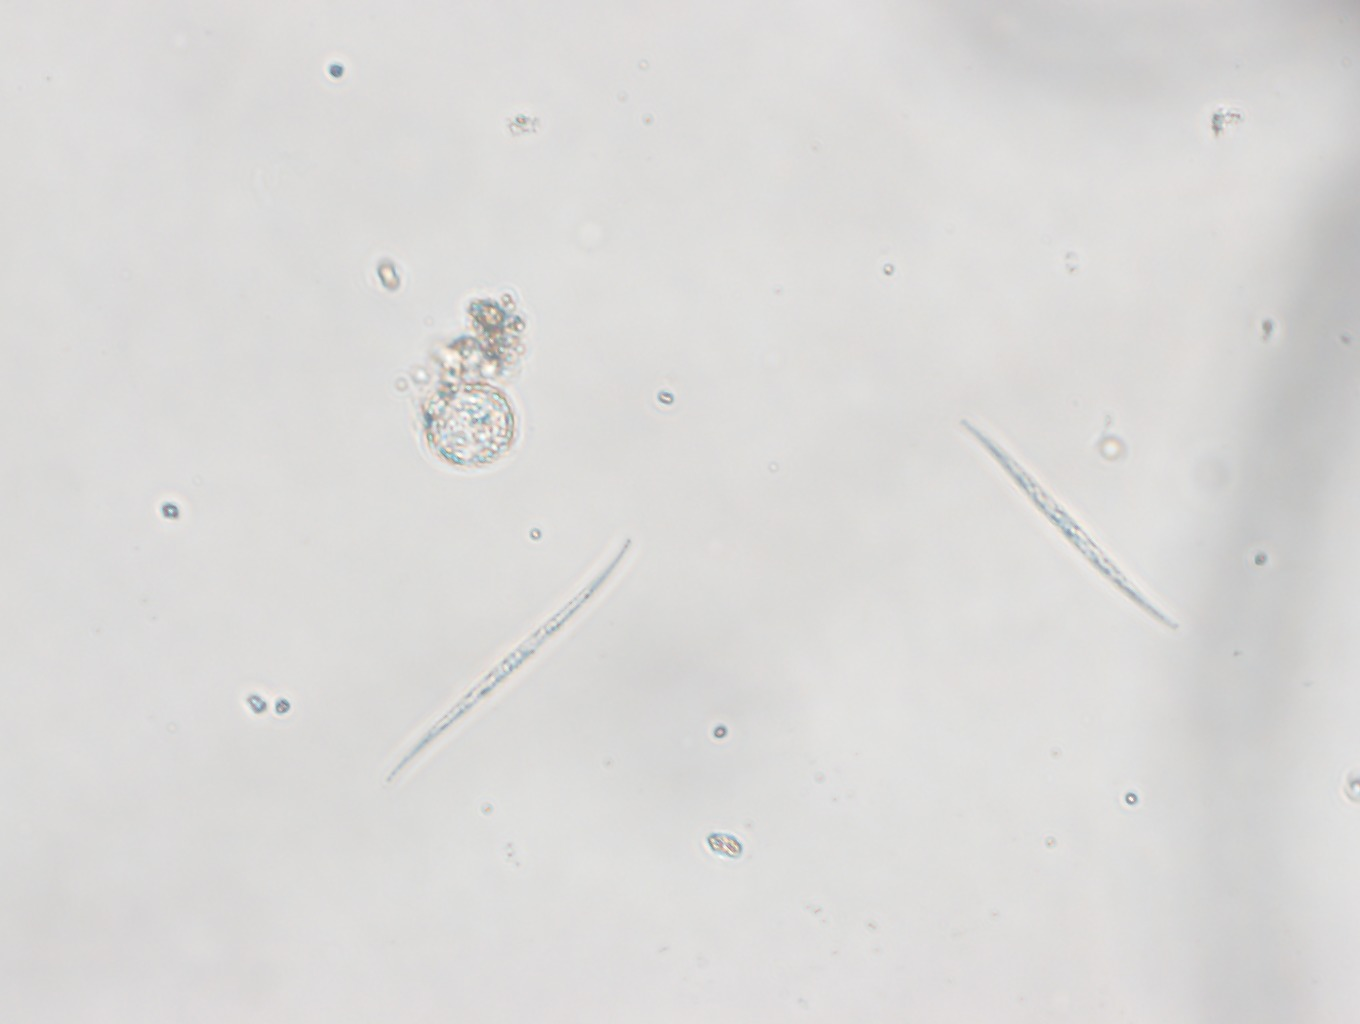pleurosigma pelagicum: (356, 520, 645, 799), (959, 417, 1203, 648)
